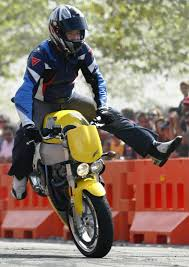helmet: (41, 2, 93, 58)
